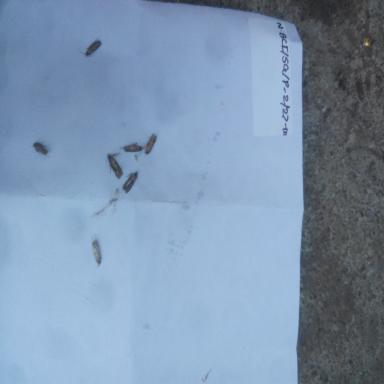pbw: (82, 34, 104, 65), (104, 151, 125, 183), (121, 136, 145, 160), (30, 135, 52, 161), (89, 234, 104, 269), (122, 170, 140, 195), (144, 131, 160, 157)
